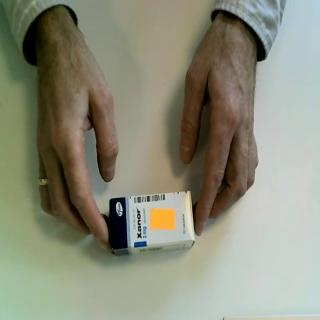xanor2mg: (107, 189, 197, 260)
